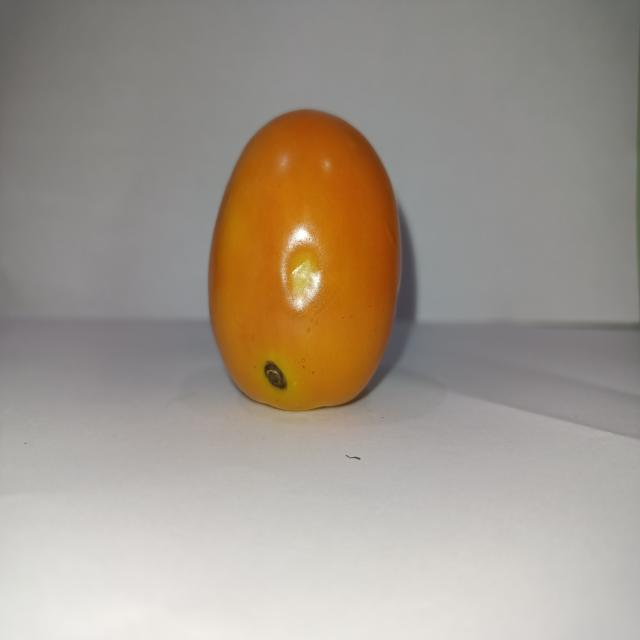Red: (206, 107, 402, 412)
